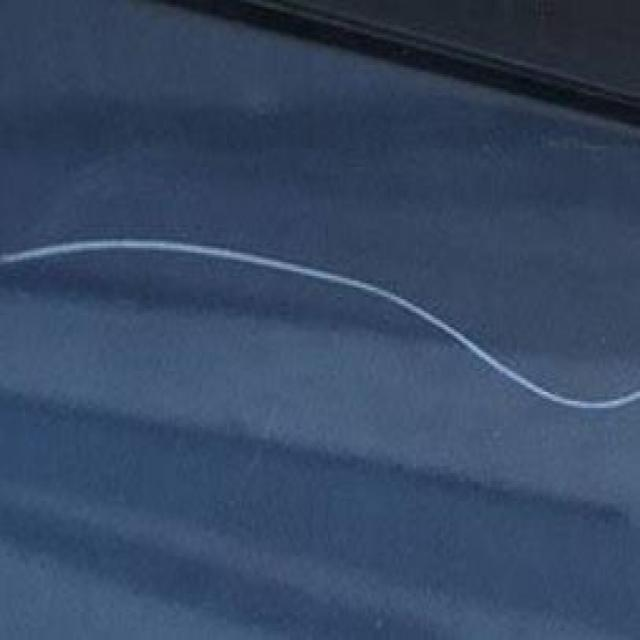scratch: (8, 221, 640, 421)
